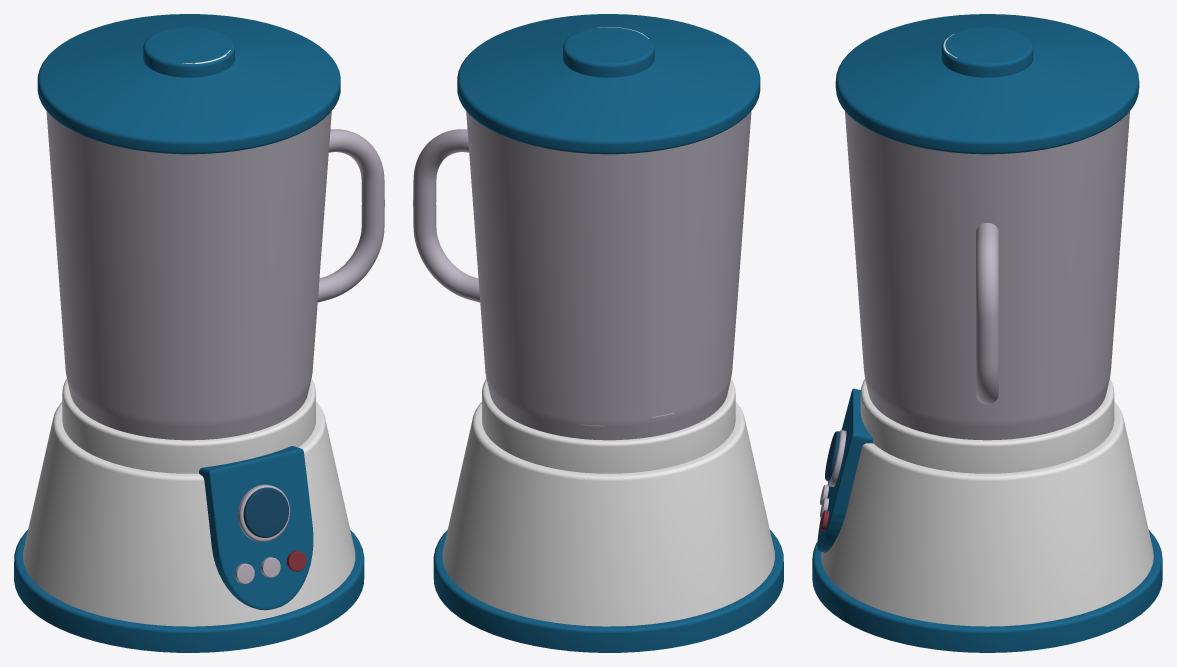
Rendered from mixer.glb.
The picture shows the model from 3 angles, left to right: view 1: azimuth 30°, elevation 25°; view 2: azimuth 150°, elevation 25°; view 3: azimuth 270°, elevation 25°; orthographic projection.
Parts seen in each view (by area): view 1: Cylinder, Cube, Plane, Cylinder.002, Cylinder.001; view 2: Cylinder, Plane; view 3: Cylinder, Plane, Cube.
Boxes of the visible parts, x1,y1,x2,y2 form: Cylinder: [14, 14, 364, 652]; Cube: [199, 446, 313, 610]; Plane: [317, 129, 384, 302]; Cylinder.002: [243, 487, 288, 537]; Cylinder.001: [238, 484, 290, 541]; Cylinder: [433, 14, 783, 652]; Plane: [413, 129, 480, 302]; Cylinder: [812, 14, 1162, 652]; Plane: [976, 223, 998, 404]; Cube: [817, 388, 872, 552].
Size of the model in its own units: 8.21 by 12.11 by 7.2.
